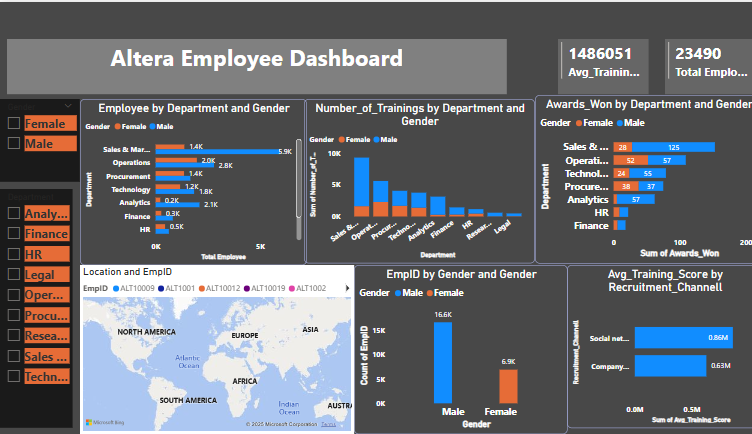

The page's visual inventory and layout, read from the dashboard file:
{"tool":"powerbi","page":{"name":"Page 1","canvas":[1280,720],"ordinal":0},"visuals":[{"type":"multiRowCard","fields":{"Values":["Altera_Emp_Data.total number"]},"box":[1108.7,62.2,151.2,92.4],"z":0},{"type":"clusteredColumnChart","title":" EmpID by Gender and Gender","fields":{"Category":["Altera_Emp_Data.Gender"],"Y":["CountNonNull(Altera_Emp_Data.EmpID)"],"Series":["Altera_Emp_Data.Gender"]},"box":[589.6,438.4,356.1,282.2],"z":1000},{"type":"clusteredBarChart","title":"Employee by Department and Gender","fields":{"Category":["Altera_Emp_Data.Department"],"Y":["Altera_Emp_Data.Total Employee"],"Series":["Altera_Emp_Data.Gender"]},"box":[132.7,161.3,378,277.2],"z":2000},{"type":"clusteredBarChart","title":"Avg_Training_Score by Recruitment_Channell","fields":{"Category":["Altera_Emp_Data.Recruitment_Channell"],"Y":["Sum(Altera_Emp_Data.Avg_Training_Score)"]},"box":[945.7,438.4,325.9,272.1],"z":3000},{"type":"columnChart","title":" Number_of_Trainings by Department and Gender","fields":{"Y":["Sum(Altera_Emp_Data.Number_of_Trainings)"],"Category":["Altera_Emp_Data.Department"],"Series":["Altera_Emp_Data.Gender"]},"box":[507.3,161.3,384.7,273.8],"z":4000},{"type":"barChart","title":" Awards_Won by Department and Gender","fields":{"Y":["Sum(Altera_Emp_Data.Awards_Won)"],"Series":["Altera_Emp_Data.Gender"],"Category":["Altera_Emp_Data.Department"]},"box":[892,154.5,379.6,280.5],"z":5000},{"type":"slicer","fields":{"Values":["Altera_Emp_Data.Gender"]},"box":[0,161.3,132.7,137.7],"z":6000},{"type":"filledMap","fields":{"Series":["Altera_Emp_Data.EmpID"],"Category":["Altera_Emp_Data.Location"]},"box":[132.7,438.4,456.9,282.2],"z":7000},{"type":"textbox","box":[11.8,62.2,833.2,92.4],"z":7001},{"type":"multiRowCard","fields":{"Values":["Sum(Altera_Emp_Data.Avg_Training_Score)"]},"box":[930.6,62.2,151.2,92.4],"z":7002},{"type":"slicer","fields":{"Values":["Altera_Emp_Data.Department"]},"box":[0,312.4,120.9,398.1],"z":7003}]}

Visuals, with their boxes in screenshot pixels (x1, y1, x2, y2), scaled from the page's 1280x720 canvas onto the 752x434 screenshot:
multiRowCard - Altera_Emp_Data.total number: 651 37 740 93
" EmpID by Gender and Gender" clusteredColumnChart: 346 264 556 433
"Employee by Department and Gender" clusteredBarChart: 78 97 300 264
"Avg_Training_Score by Recruitment_Channell" clusteredBarChart: 556 264 747 428
" Number_of_Trainings by Department and Gender" columnChart: 298 97 524 262
" Awards_Won by Department and Gender" barChart: 524 93 747 262
slicer - Altera_Emp_Data.Gender: 0 97 78 180
filledMap - Altera_Emp_Data.EmpID x Altera_Emp_Data.Location: 78 264 346 433
textbox: 7 37 496 93
multiRowCard - Sum(Altera_Emp_Data.Avg_Training_Score): 547 37 636 93
slicer - Altera_Emp_Data.Department: 0 188 71 428
